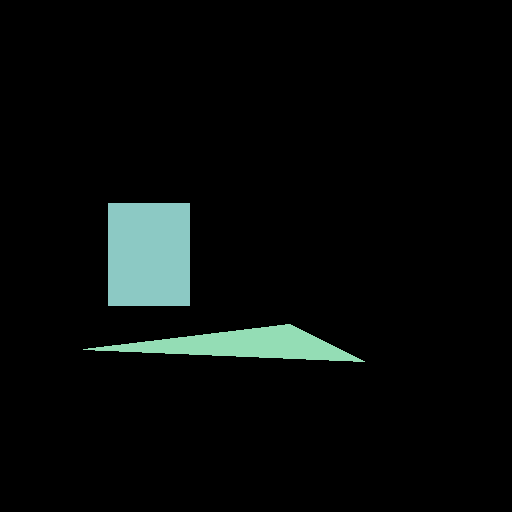rectangle: (108, 203, 189, 305)
triangle: (83, 324, 364, 361)
